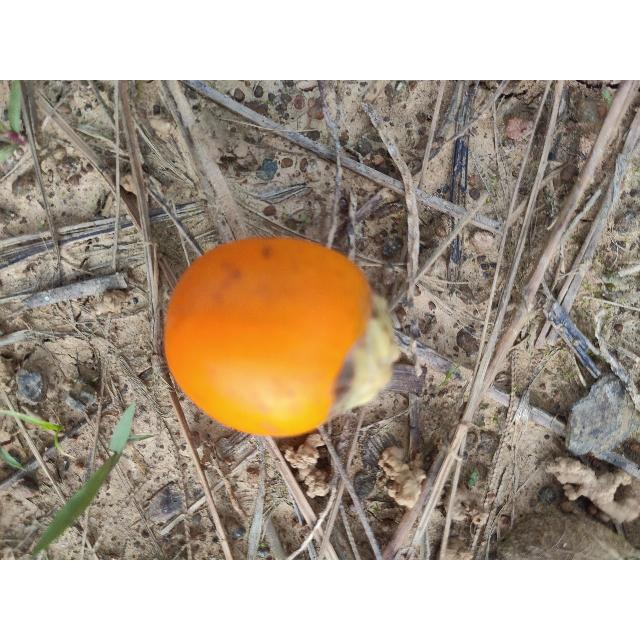good: (163, 237, 403, 440)
